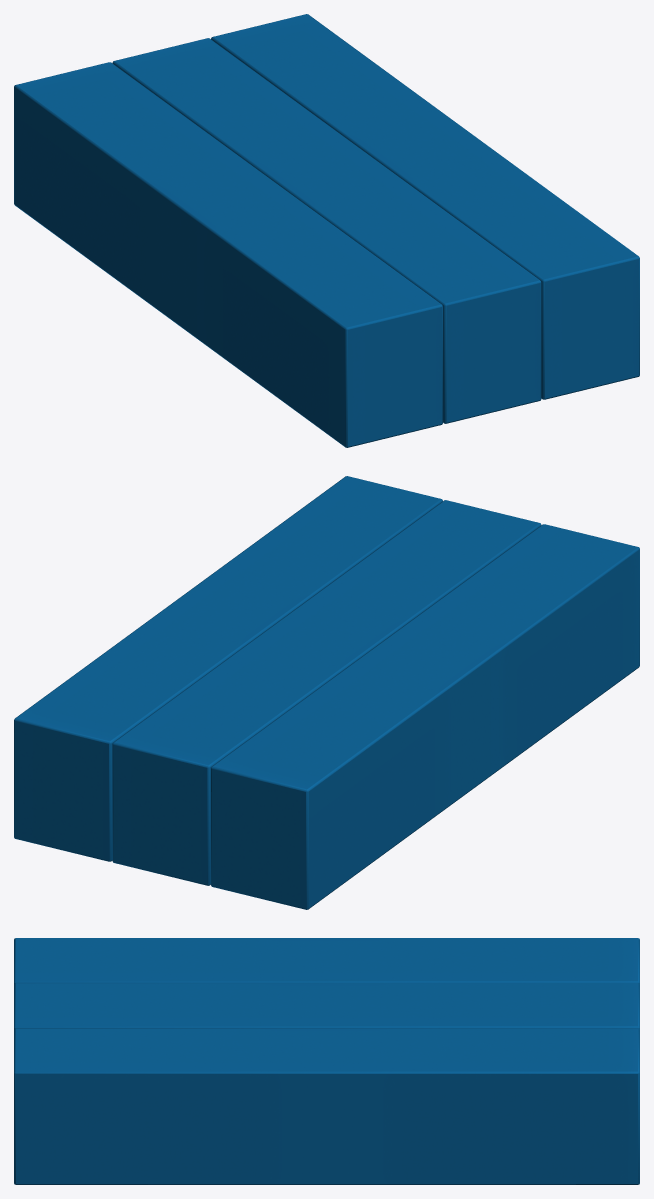
Rendered from 5-left-toy-leg-course-3.fbx.
The picture shows the model from 3 angles, top to bottom: view 1: azimuth 30°, elevation 25°; view 2: azimuth 150°, elevation 25°; view 3: azimuth 270°, elevation 25°; orthographic projection. The views are drawn at different scales.
Parts seen in each view (by area): view 1: left-toy-leg-course-3; view 2: left-toy-leg-course-3; view 3: left-toy-leg-course-3.
Part boxes in pixels (x1,y1,x2,y2): left-toy-leg-course-3: [14, 14, 639, 447]; left-toy-leg-course-3: [14, 476, 639, 909]; left-toy-leg-course-3: [14, 938, 639, 1184].
Size of the model in its own units: 4085 by 1597 by 8000.
Materials: 1 (1 with a texture image).
